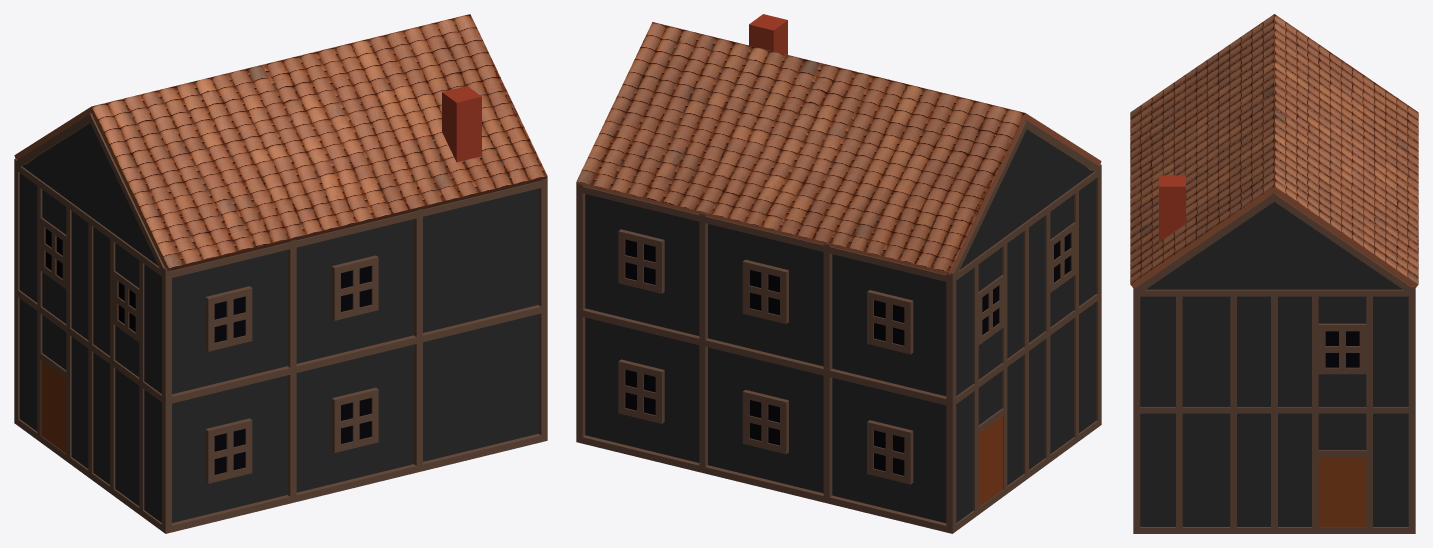
Rendered from timberframedhouseroof.obj.
The picture shows the model from 3 angles, left to right: view 1: azimuth 30°, elevation 25°; view 2: azimuth 150°, elevation 25°; view 3: azimuth 270°, elevation 25°; orthographic projection. The views are drawn at different scales.
Parts seen in each view (by area): view 1: Cube.005, Cube.007_Cube.011, Cube.010_Cube.014, Cube.011_Cube.015, Cube.018_Cube.016, Cube.013_Cube.007, Cube.009, Cube.004, Cube.001, Cube.006_Cube.010, Cube.026_Cube.019, Cube.025_Cube.012 (+16 smaller); view 2: Cube.005, Cube.007_Cube.011, Cube.022_Cube.025, Cube.023_Cube.026, Cube.021_Cube.024, Cube.028, Cube.020_Cube.023, Cube.017_Cube.021, Cube.008, Cube.019_Cube.022, Cube.015_Cube.020, Cube.014_Cube.018 (+18 smaller); view 3: Cube.005, Cube.007_Cube.011, Cube.003, Cube.033, Cube.032, Cube.012_Cube.017, Cube.027, Cube.031, Cube.034, Cube.046_Cube.048, Cube.035, Cube.047_Cube.049 (+5 smaller).
Part boxes in pixels (box(x1,y1,x2,y2)): Cube.005: box(19, 123, 538, 522); Cube.007_Cube.011: box(14, 14, 547, 270); Cube.010_Cube.014: box(167, 305, 542, 403); Cube.011_Cube.015: box(167, 434, 543, 532); Cube.018_Cube.016: box(167, 181, 541, 278); Cube.013_Cube.007: box(331, 255, 378, 320); Cube.009: box(205, 286, 252, 351); Cube.004: box(205, 418, 252, 483); Cube.001: box(331, 387, 378, 452); Cube.006_Cube.010: box(442, 86, 481, 162); Cube.026_Cube.019: box(162, 267, 171, 533); Cube.025_Cube.012: box(287, 239, 296, 503); Cube.005: box(585, 129, 1096, 522); Cube.007_Cube.011: box(576, 22, 1101, 274); Cube.022_Cube.025: box(578, 308, 950, 406); Cube.023_Cube.026: box(578, 435, 950, 533); Cube.021_Cube.024: box(578, 185, 950, 282); Cube.028: box(946, 271, 956, 533); Cube.020_Cube.023: box(867, 420, 913, 484); Cube.017_Cube.021: box(618, 359, 664, 423); Cube.008: box(618, 229, 664, 293); Cube.019_Cube.022: box(742, 390, 788, 454); Cube.015_Cube.020: box(867, 290, 913, 354); Cube.014_Cube.018: box(742, 259, 788, 323); Cube.005: box(1140, 202, 1408, 526); Cube.007_Cube.011: box(1130, 14, 1418, 287); Cube.003: box(1318, 457, 1366, 527); Cube.033: box(1318, 323, 1366, 374); Cube.032: box(1138, 289, 1410, 296); Cube.012_Cube.017: box(1133, 286, 1140, 533); Cube.027: box(1408, 286, 1415, 533); Cube.031: box(1138, 527, 1410, 533); Cube.034: box(1271, 289, 1277, 530); Cube.046_Cube.048: box(1230, 289, 1236, 530); Cube.035: box(1312, 289, 1318, 530); Cube.047_Cube.049: box(1176, 289, 1182, 530).
Bounding box in the file's own units: 12.15 × 11.25 × 8.47.
